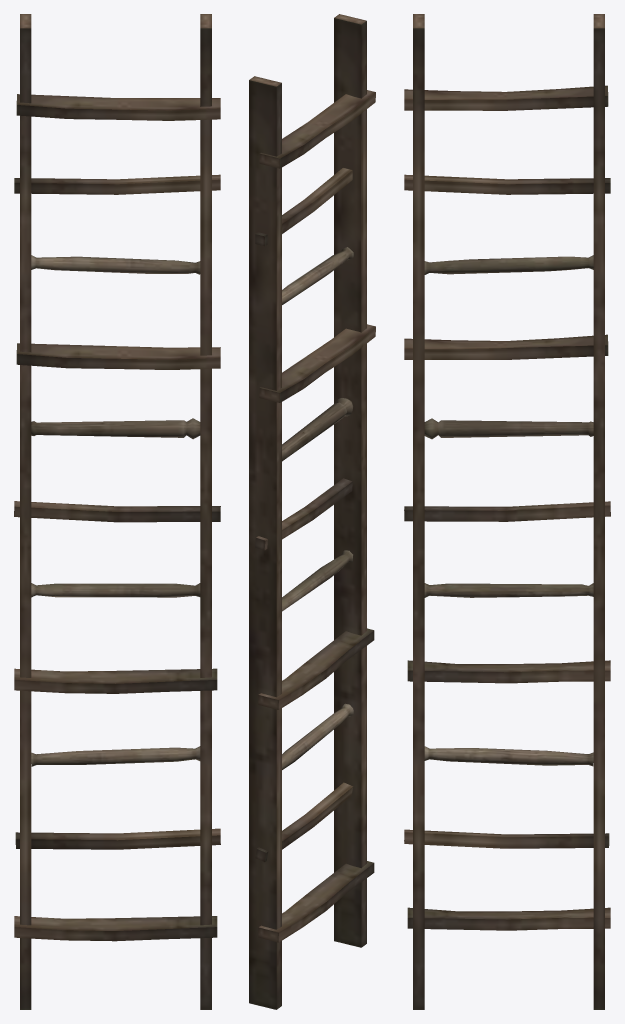
The model's file is ladder.wood.glb.
3 renders of one model, left to right at view 1: azimuth 90°, elevation 25°; view 2: azimuth 150°, elevation 25°; view 3: azimuth 270°, elevation 25°, orthographic. The views are drawn at different scales.
Visible parts, largest first — view 1: m_boat_ladder_LOD0; view 2: m_boat_ladder_LOD0; view 3: m_boat_ladder_LOD0.
Boxes of the visible parts, x1,y1,x2,y2 form: m_boat_ladder_LOD0: (14, 14, 220, 1009); m_boat_ladder_LOD0: (249, 14, 375, 1009); m_boat_ladder_LOD0: (404, 14, 610, 1009).
Bounding box in the file's own units: 0.1115 × 3 × 0.5724.
Materials: 1 (1 with a texture image).
